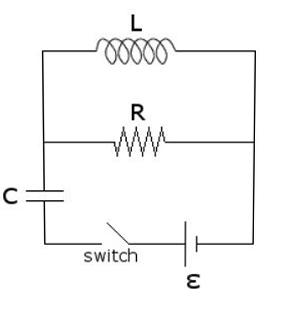resistor: (100, 123, 185, 160)
